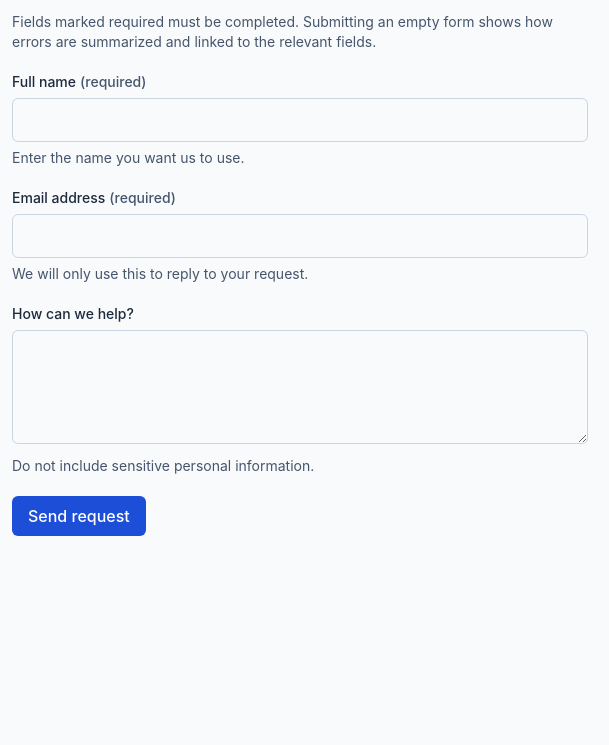
Test: AccessibleFormExample › focuses a linked error summary after invalid submission and reports success when corrected
The image size is (609, 745).
Submit the form named "Send request"
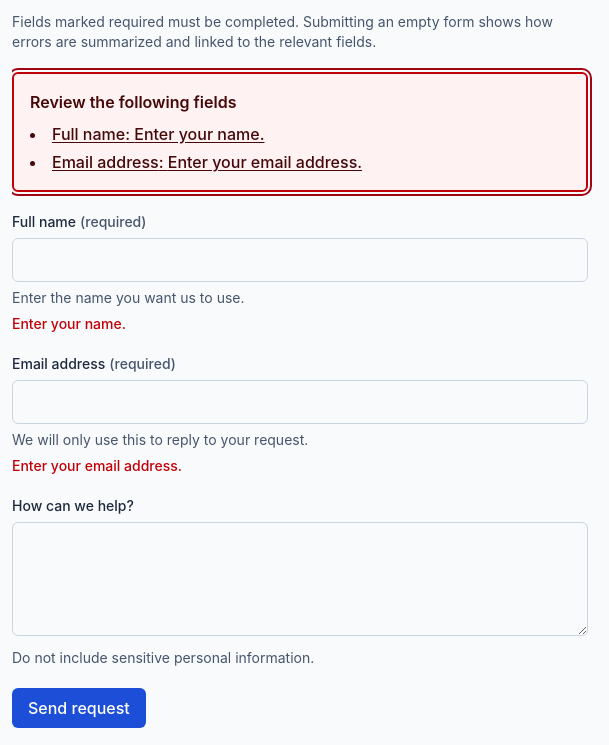
Expected: the field labelled "Full name(required)" is marked as invalid
Type "Sam Example" into the field labelled "Full name(required)" at point(300, 260), box [12, 238, 588, 282]
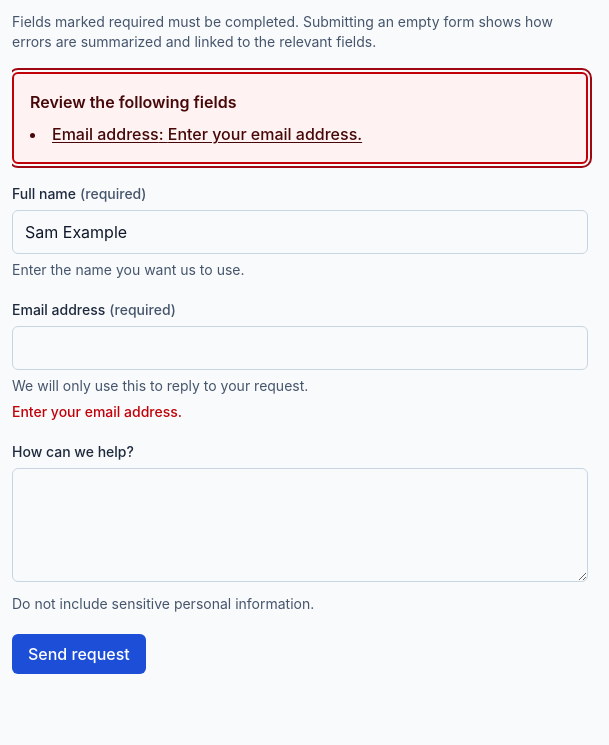
Type "sam@example.com" into the field labelled "Email address(required)" at point(300, 348), box [12, 326, 588, 370]
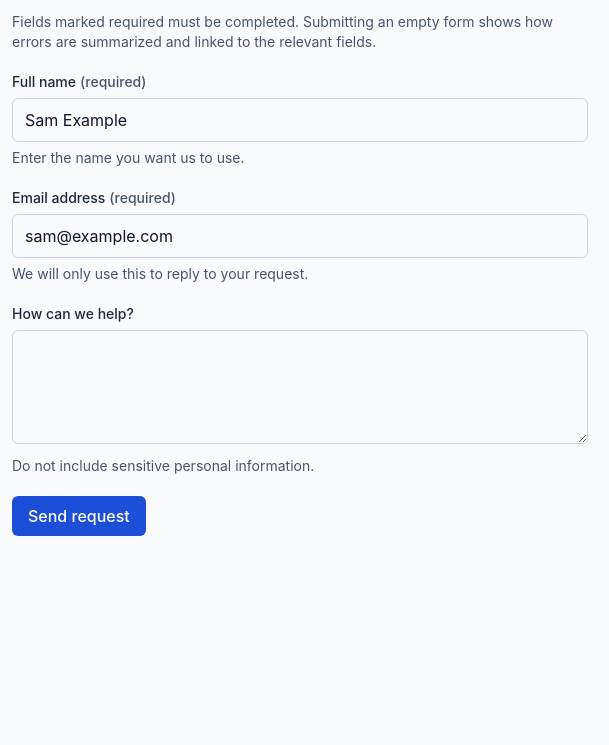
Submit the form named "Send request"
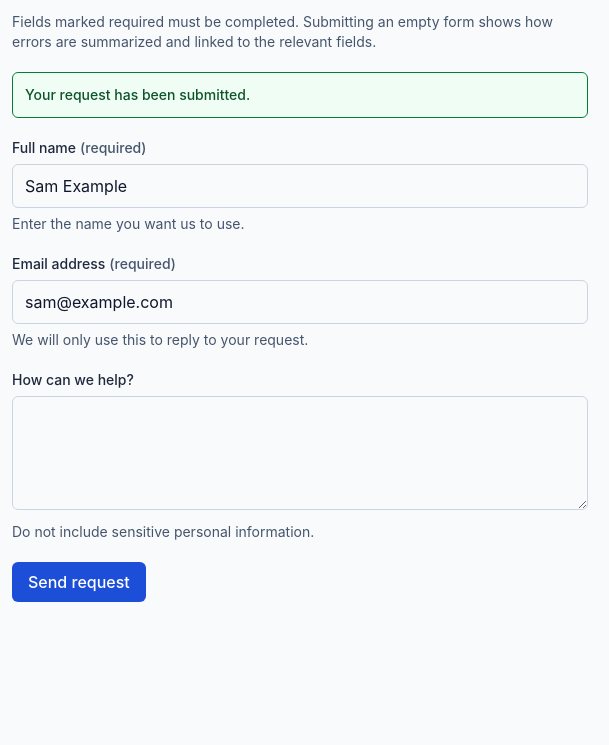
Expected: the message reads "Your request has been submitted.", [25, 86, 250, 103]
